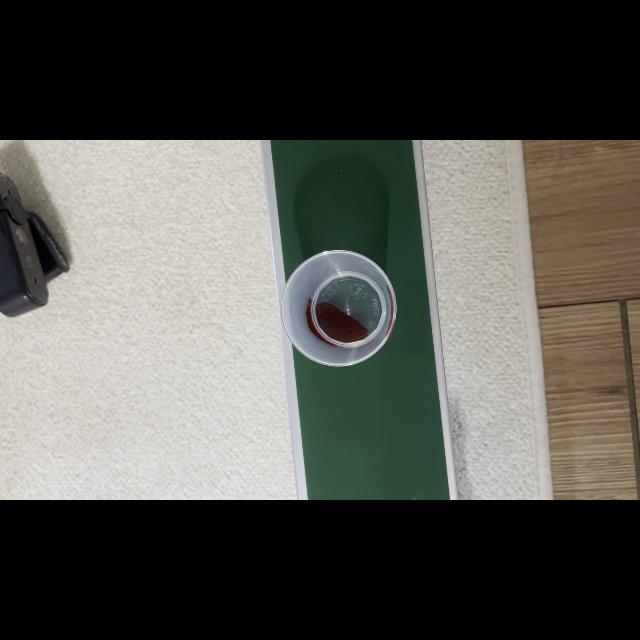dirty: (282, 250, 396, 366)
